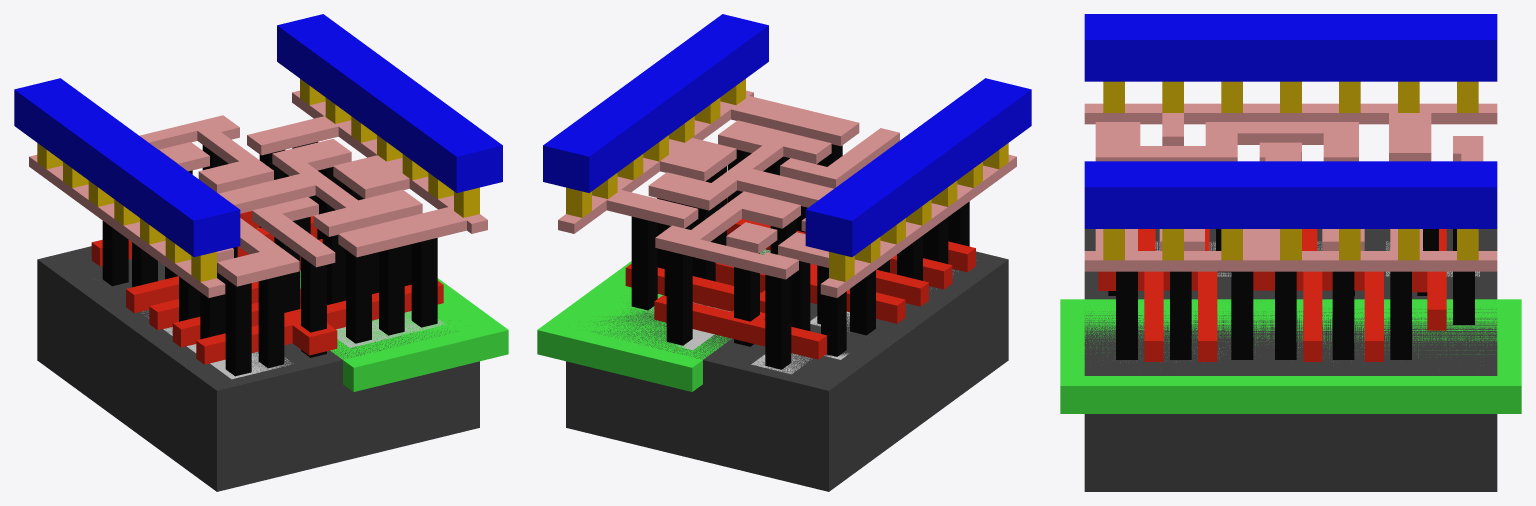
Rendered from sky130_fd_sc_hd__nand2b_2.obj.
3 views of the same model, side by side, from view 1: azimuth 30°, elevation 25°; view 2: azimuth 150°, elevation 25°; view 3: azimuth 270°, elevation 25° (orthographic). The views are drawn at different scales.
Visible parts, largest first — view 1: subs, metal1, li, licon, nwell, poly, mcon, tap, diff; view 2: subs, metal1, li, licon, nwell, poly, mcon, diff; view 3: metal1, subs, li, nwell, licon, poly, mcon.
Boxes of the visible parts, <box> form: subs: <box>37,228,479,491</box>; metal1: <box>14,14,502,257</box>; li: <box>29,90,487,297</box>; licon: <box>102,141,437,376</box>; nwell: <box>257,228,508,391</box>; poly: <box>91,211,443,364</box>; mcon: <box>37,79,479,281</box>; tap: <box>300,271,445,347</box>; diff: <box>142,311,293,379</box>; subs: <box>566,249,1008,491</box>; metal1: <box>543,14,1031,257</box>; li: <box>558,90,1016,297</box>; licon: <box>631,144,969,369</box>; nwell: <box>537,250,770,391</box>; poly: <box>625,197,975,359</box>; mcon: <box>566,79,1008,281</box>; diff: <box>751,270,958,374</box>; metal1: <box>1084,14,1497,228</box>; subs: <box>1084,229,1497,491</box>; li: <box>1084,103,1497,271</box>; nwell: <box>1060,299,1521,413</box>; licon: <box>1108,229,1474,359</box>; poly: <box>1098,229,1446,361</box>; mcon: <box>1103,81,1478,260</box>.
Size of the model in its own units: 3.2 by 2.74 by 3.6.
